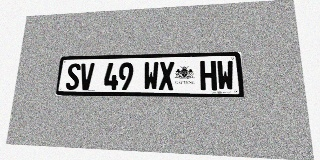4: (103, 62, 119, 90)
9: (118, 62, 134, 90)
H: (200, 61, 217, 90)
S: (65, 63, 81, 90)
V: (79, 63, 95, 90)
W: (216, 60, 235, 91), (143, 62, 159, 90)
X: (159, 61, 174, 90)
